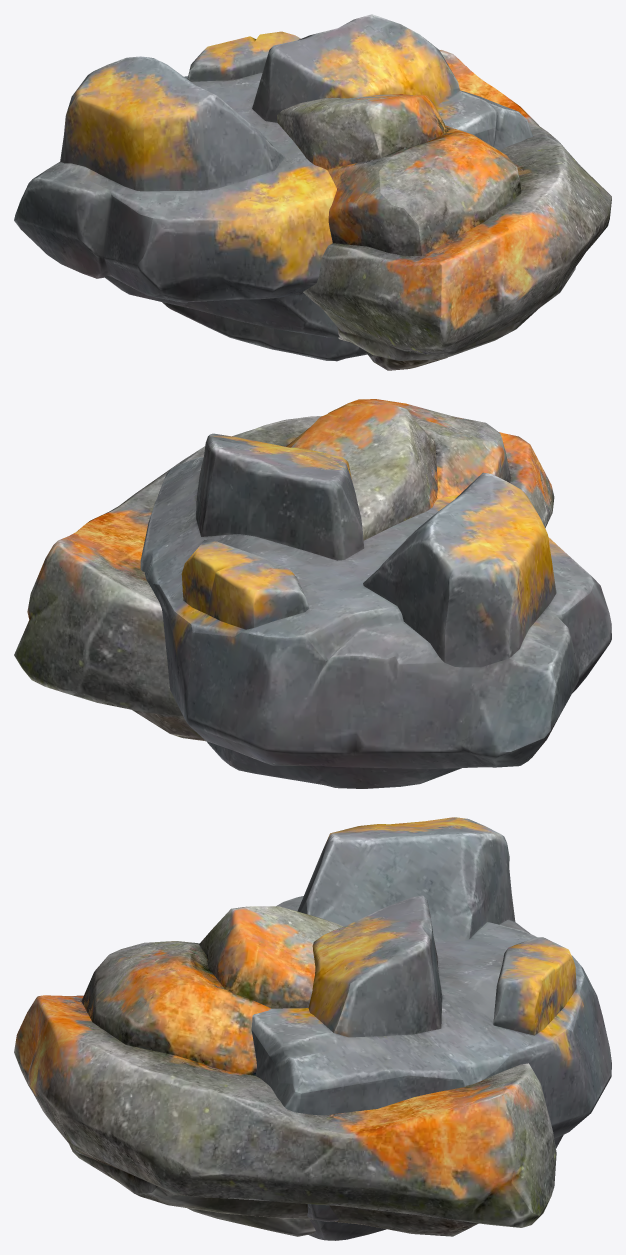
The picture shows the model from 3 angles, top to bottom: view 1: azimuth 30°, elevation 25°; view 2: azimuth 150°, elevation 25°; view 3: azimuth 270°, elevation 25°; orthographic projection. The views are drawn at different scales.
Visible parts, largest first — view 1: SM_Mining_Node_Medium_A_LOD0; view 2: SM_Mining_Node_Medium_A_LOD0; view 3: SM_Mining_Node_Medium_A_LOD0.
Part boxes in pixels (box(x1,y1,x2,y2)): SM_Mining_Node_Medium_A_LOD0: box(14, 14, 611, 370); SM_Mining_Node_Medium_A_LOD0: box(14, 399, 611, 788); SM_Mining_Node_Medium_A_LOD0: box(14, 817, 611, 1240).
Bounding box in the file's own units: 3.54 × 1.98 × 3.54.
Materials: 2 (2 with a texture image).
